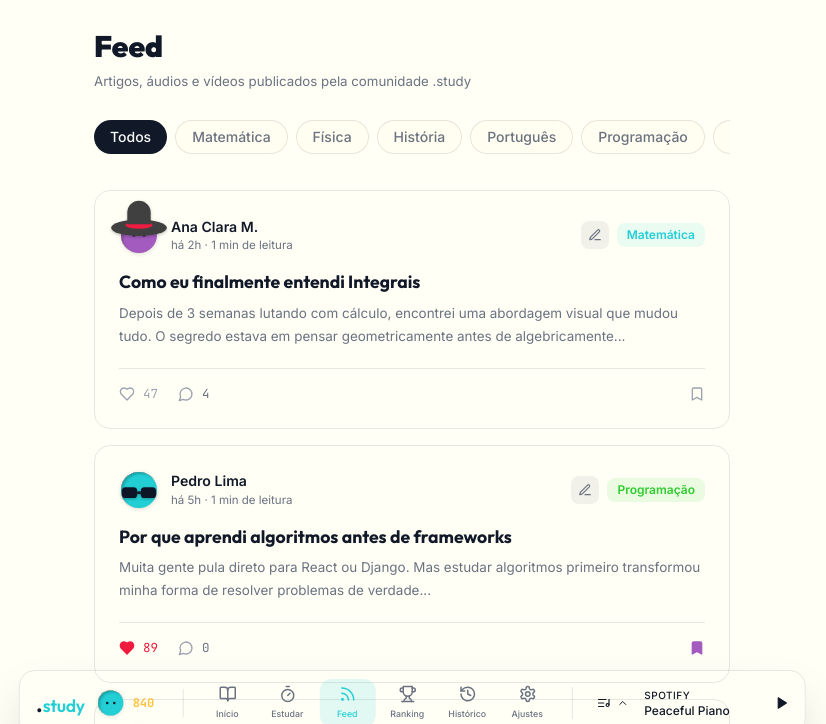
Feed › lista posts, filtra por assunto e abre o detalhe
The image size is (826, 724).
Expected: the heading "Como eu finalmente entendi Integrais" is shown, x1=119 y1=270 x2=420 y2=293
Click the button "Física". click: (332, 137)
box: x1=296 y1=120 x2=369 y2=154
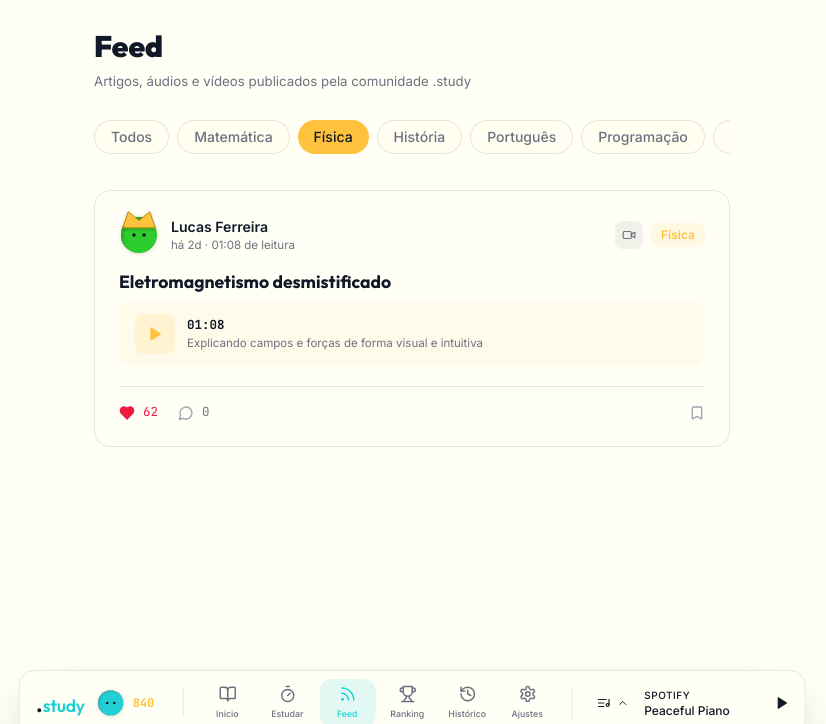
Expected: the heading "Como eu finalmente entendi Integrais" is gone
Click the heading "Eletromagnetismo desmistificado". click: (255, 282)
box: x1=119 y1=270 x2=391 y2=293
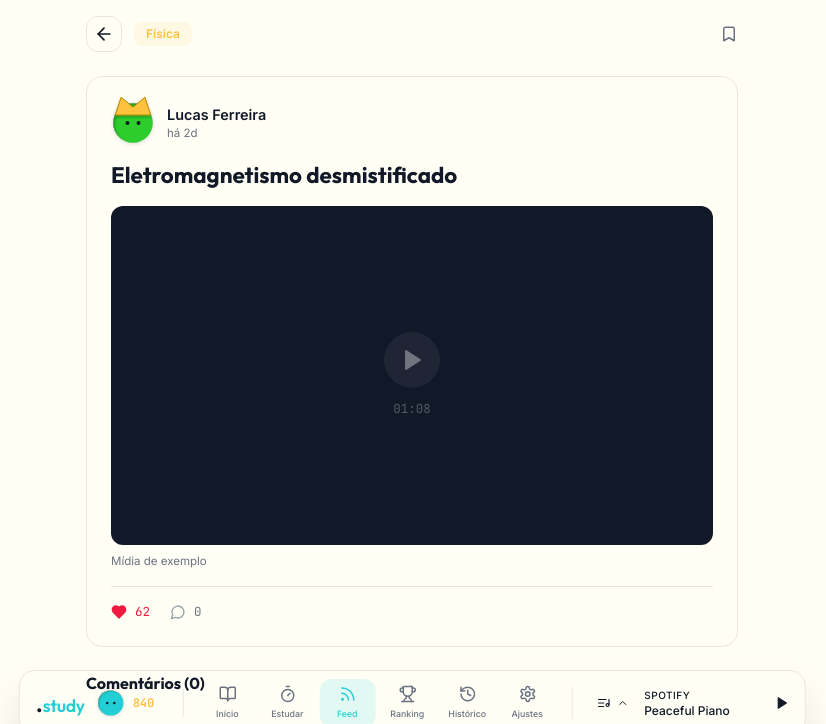
Expected: the heading "Eletromagnetismo desmistificado" is shown, x1=111 y1=161 x2=457 y2=189
